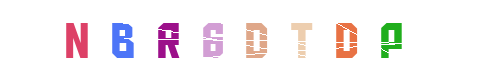6: (161, 0, 241, 80)
B: (82, 0, 162, 80)
D: (207, 0, 287, 80), (305, 0, 385, 80)
N: (41, 0, 121, 80)
P: (351, 0, 431, 80)
R: (127, 0, 207, 80)
T: (227, 0, 307, 80)
